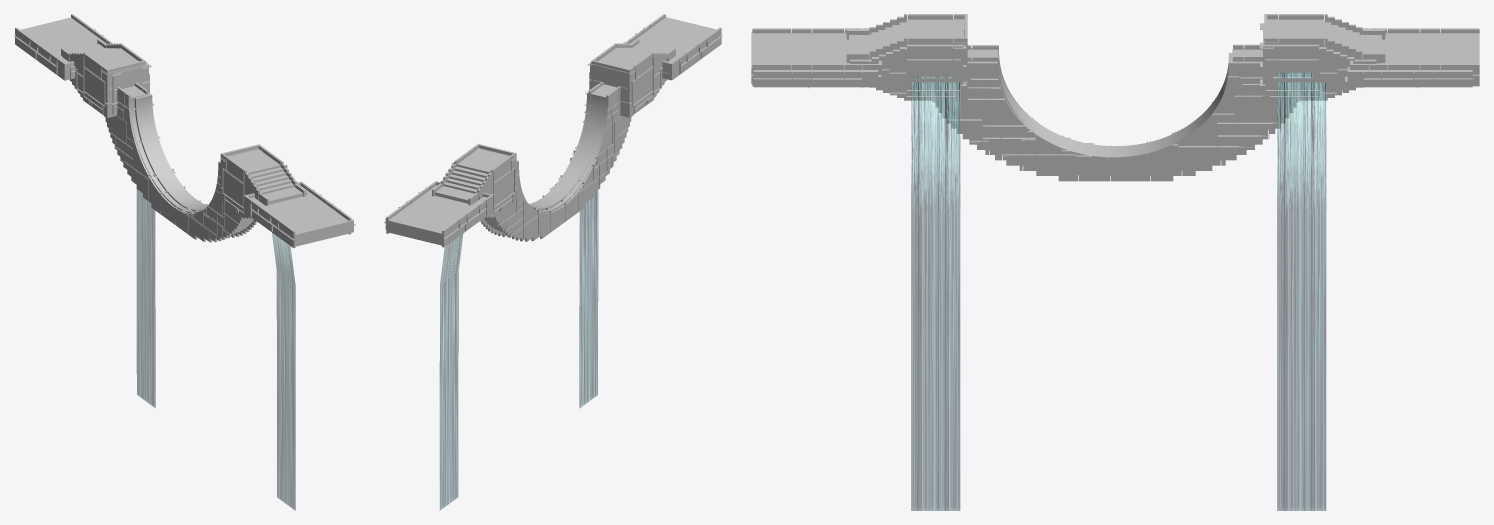
Rendered from Platform.fbx.
The picture shows the model from 3 angles, left to right: view 1: azimuth 30°, elevation 25°; view 2: azimuth 150°, elevation 25°; view 3: azimuth 270°, elevation 25°; orthographic projection. The views are drawn at different scales.
Parts seen in each view (by area): view 1: Platform; view 2: Platform; view 3: Platform.
Boxes of the visible parts, x1,y1,x2,y2 form: Platform: (14,14,355,510); Platform: (384,14,722,510); Platform: (751,14,1479,510).
Size of the model in its own units: 4708 by 24898 by 35488.
